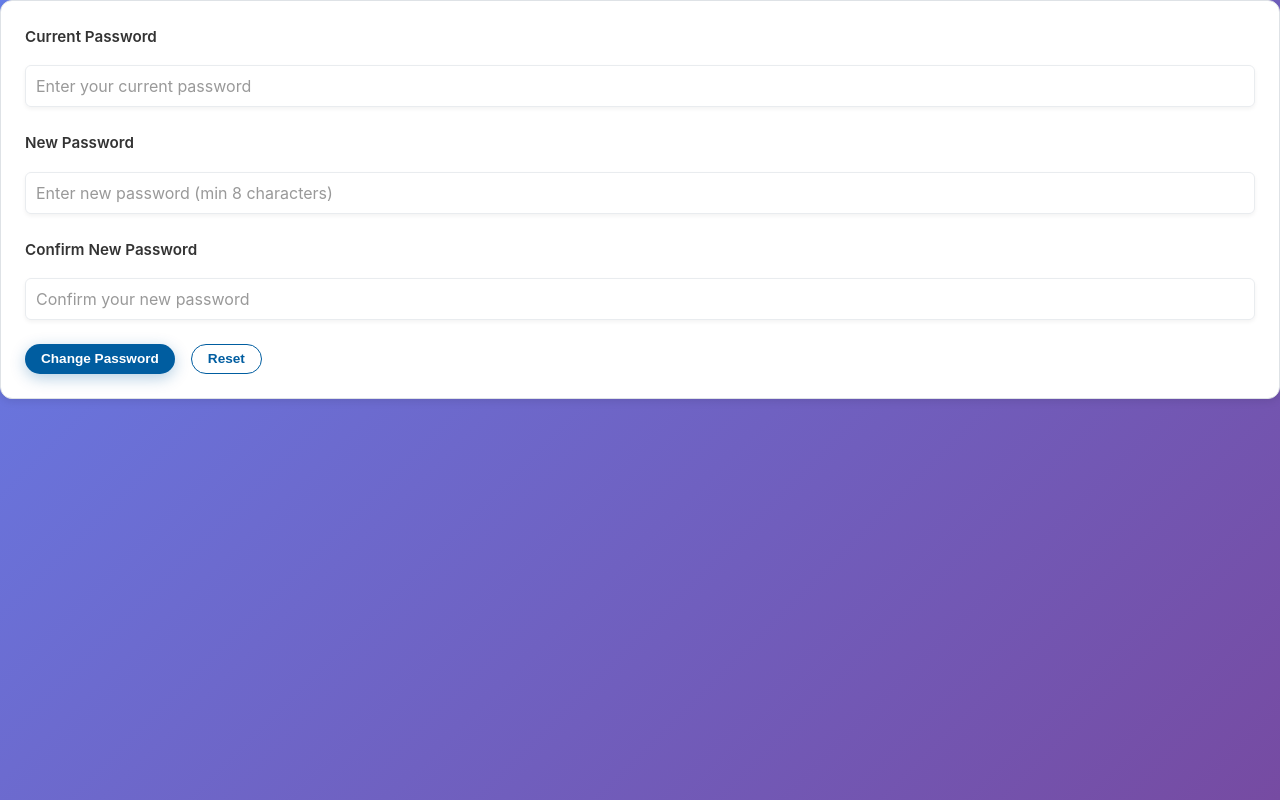
PasswordChangeCard Component › Form Validation › shows error for short password
Step 1. Type "demo" into the password field with placeholder "Enter your current password" → {"x": 640, "y": 86}, box top-left (25, 65), bottom-right (1255, 107)
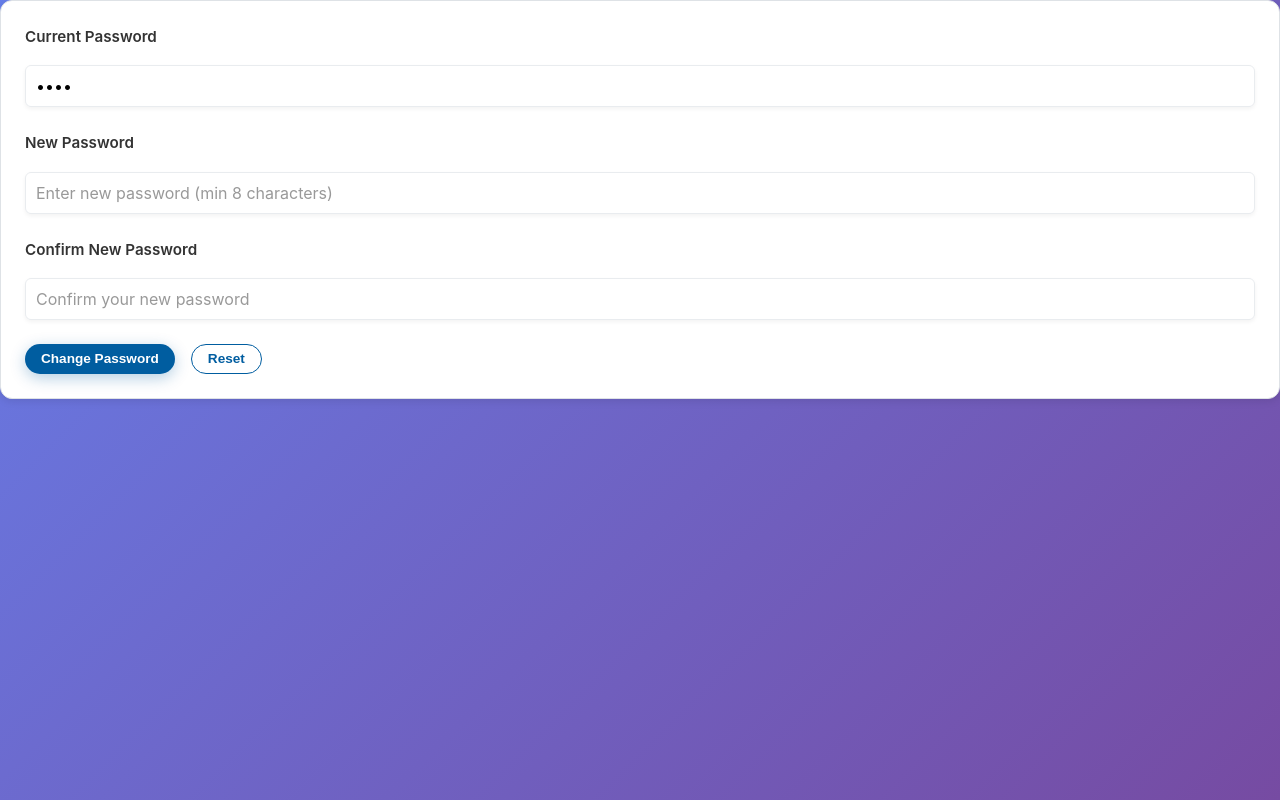
Step 2. Type "short" into the password field with placeholder "Enter new password (min 8 characters)" → {"x": 640, "y": 193}, box top-left (25, 172), bottom-right (1255, 214)
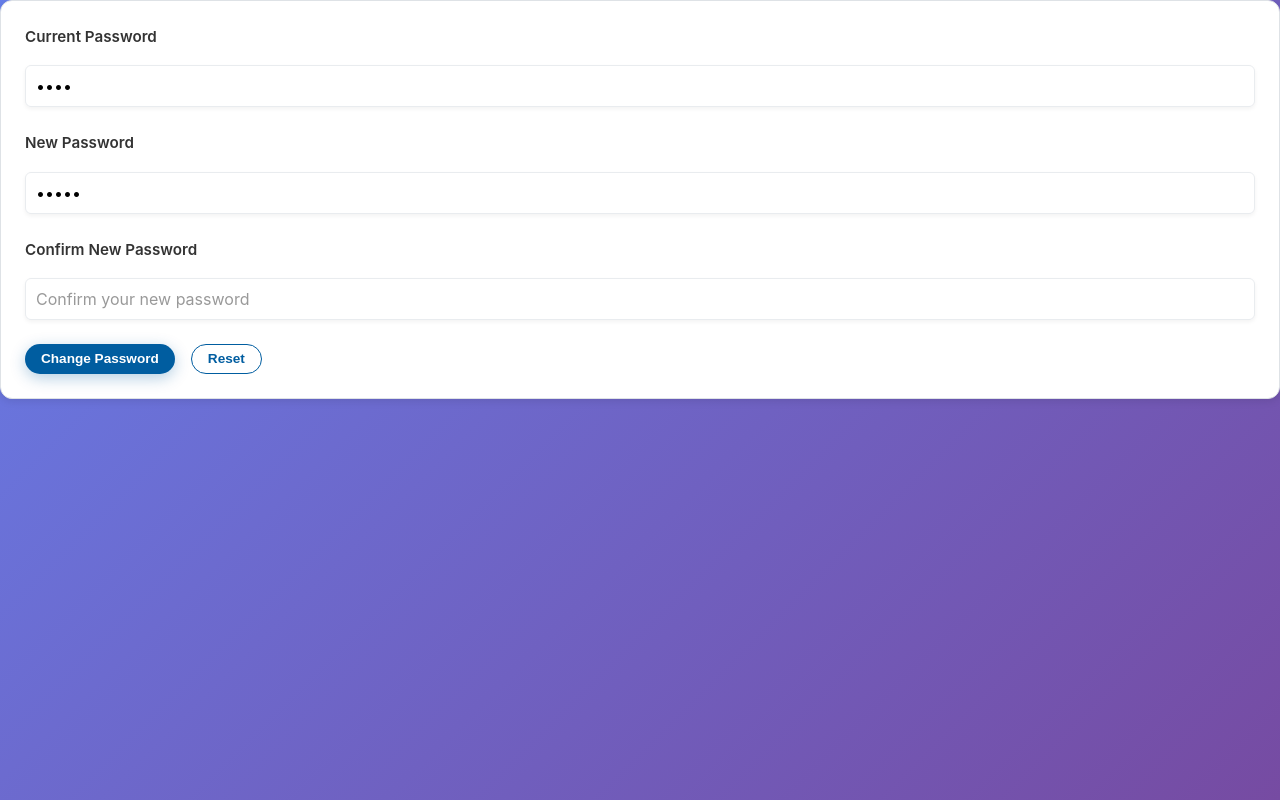
Step 3. Type "short" into the password field with placeholder "Confirm your new password" → {"x": 640, "y": 299}, box top-left (25, 278), bottom-right (1255, 320)
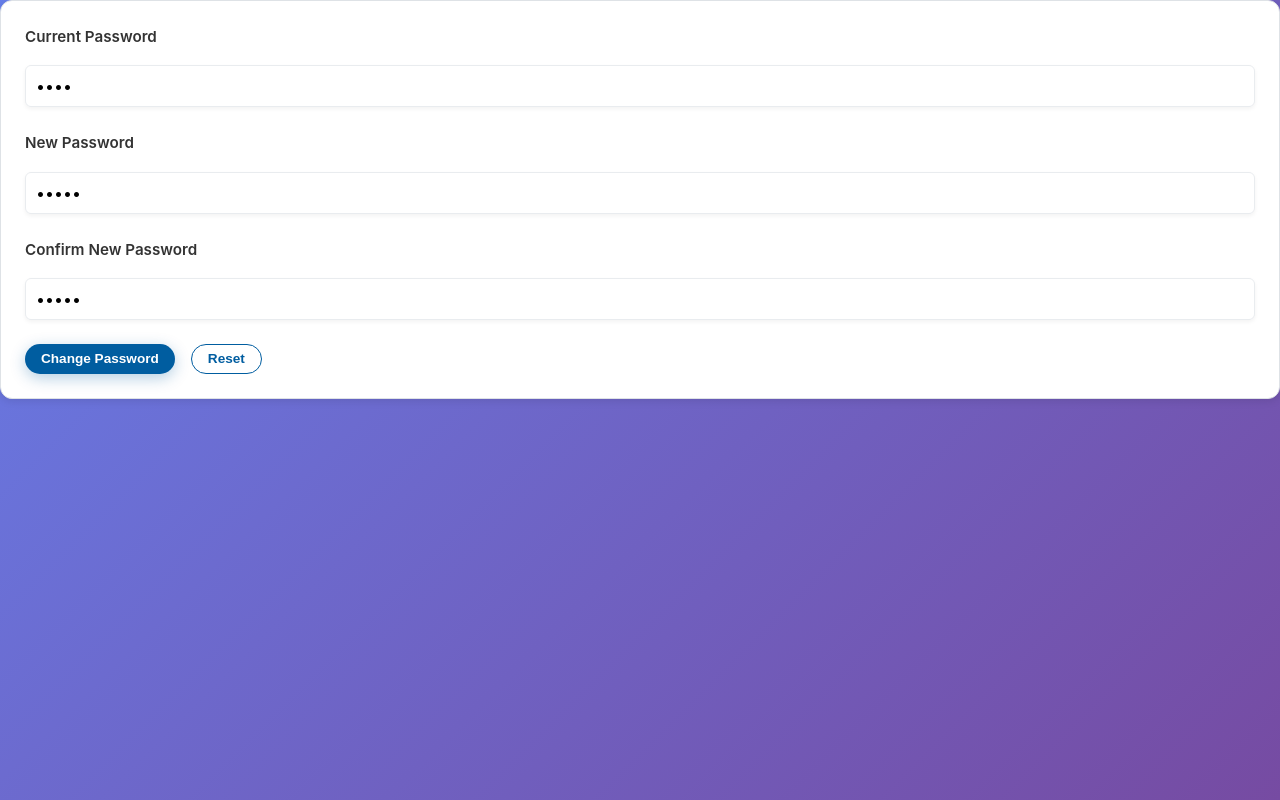
Step 4. Click the button "Change Password" → {"x": 100, "y": 359}, box top-left (25, 344), bottom-right (175, 374)
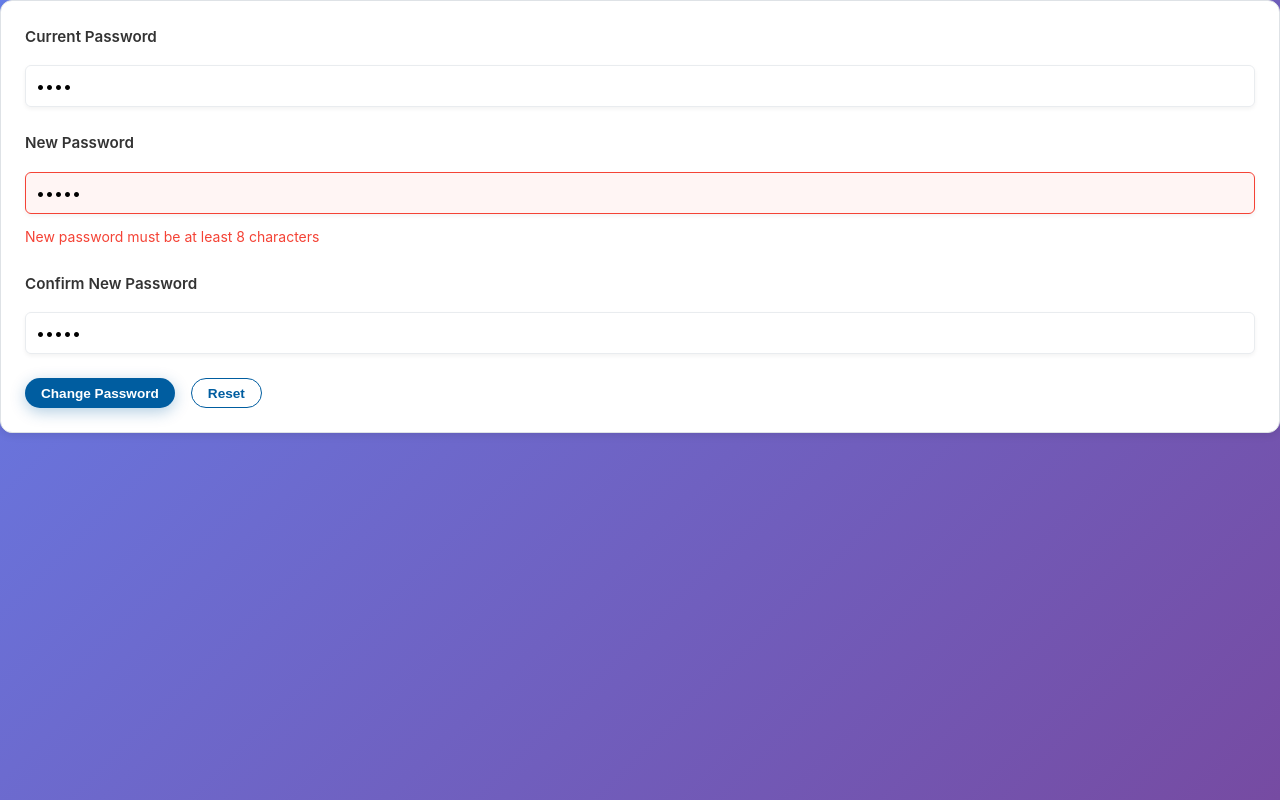
Check: the text "New password must be at least 8 characters" is shown, box top-left (25, 228), bottom-right (319, 245)
